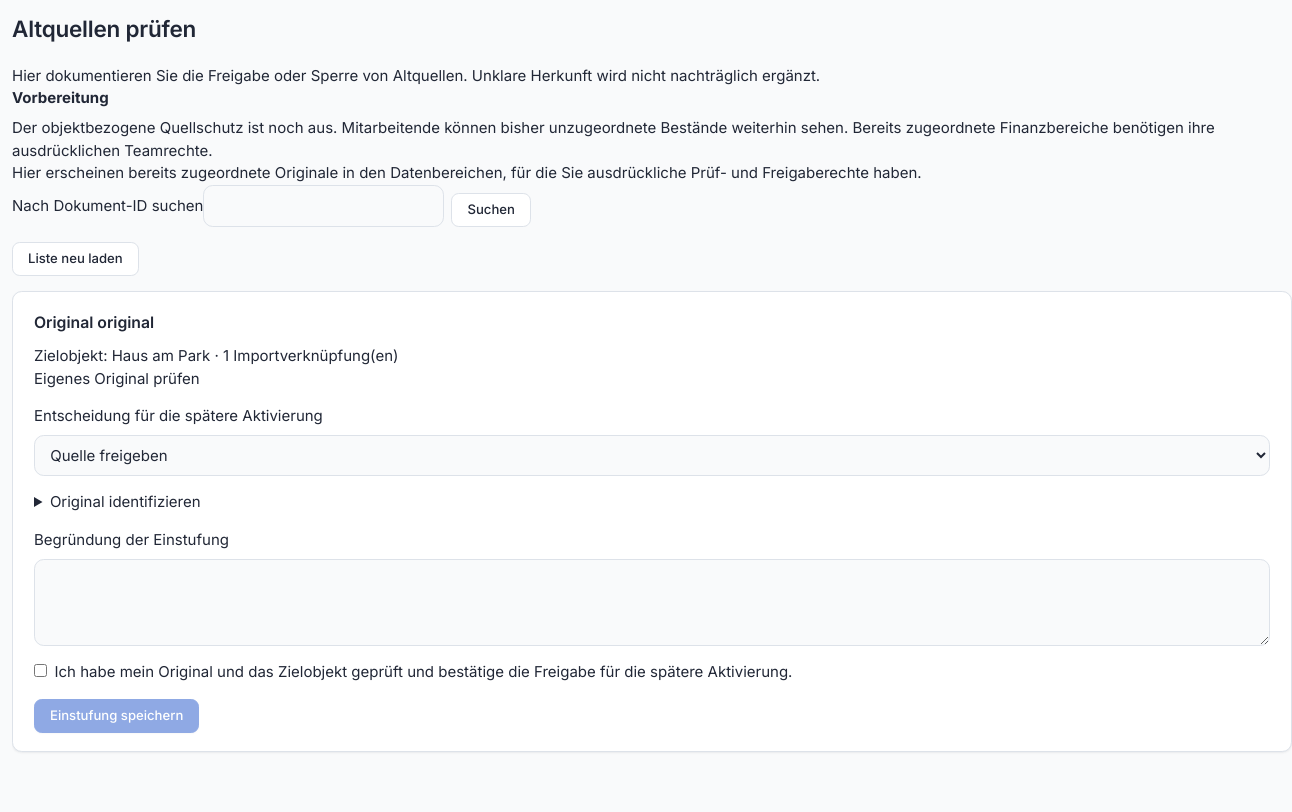
Test case: requires refreshed context and new confirmation after conflict
Expected: the checkbox is shown, [34,664,47,677]
Type "Original und Ziel geprüft" into the text box labelled "Begründung der Einstufung" at (652, 603), box [34,559,1270,646]
Click the checkbox at (40, 671), box [34,664,47,677]
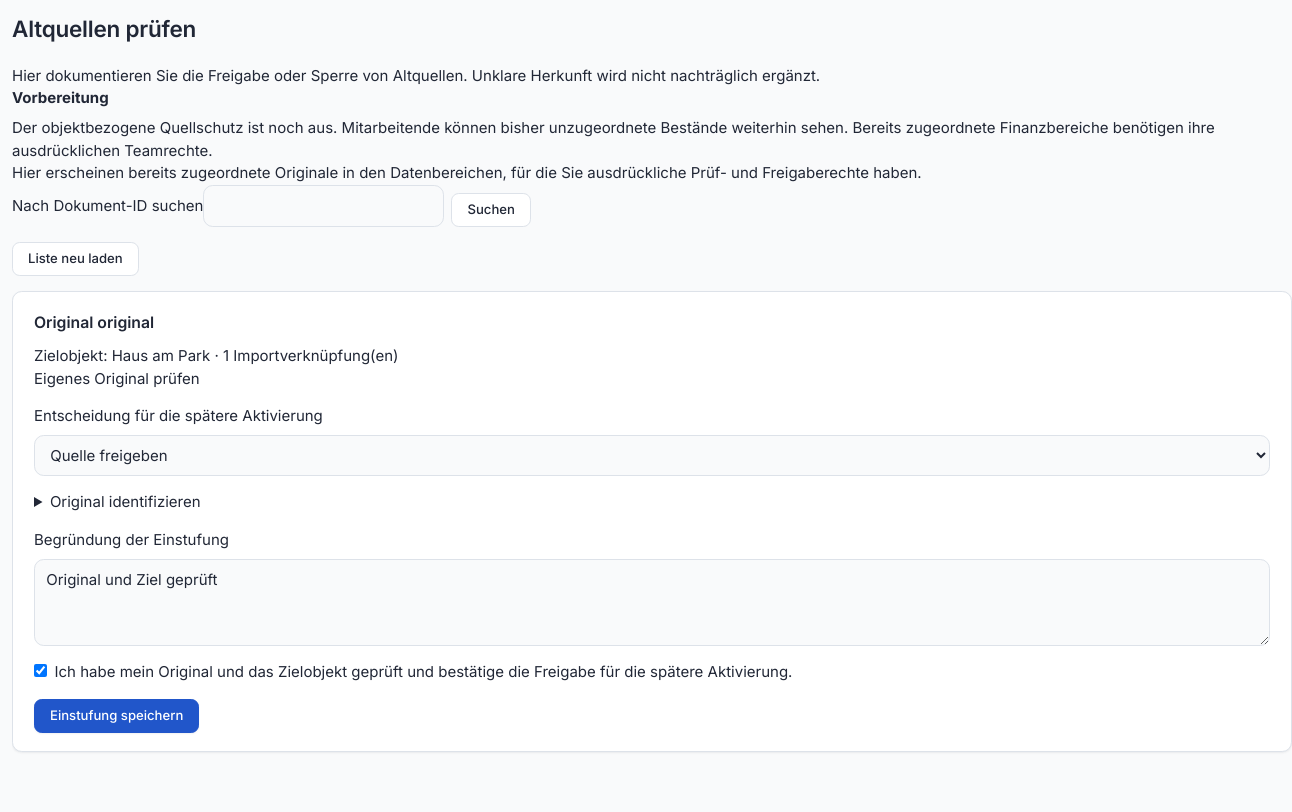
Click the button "Einstufung speichern" at (117, 716), box [34,699,199,733]
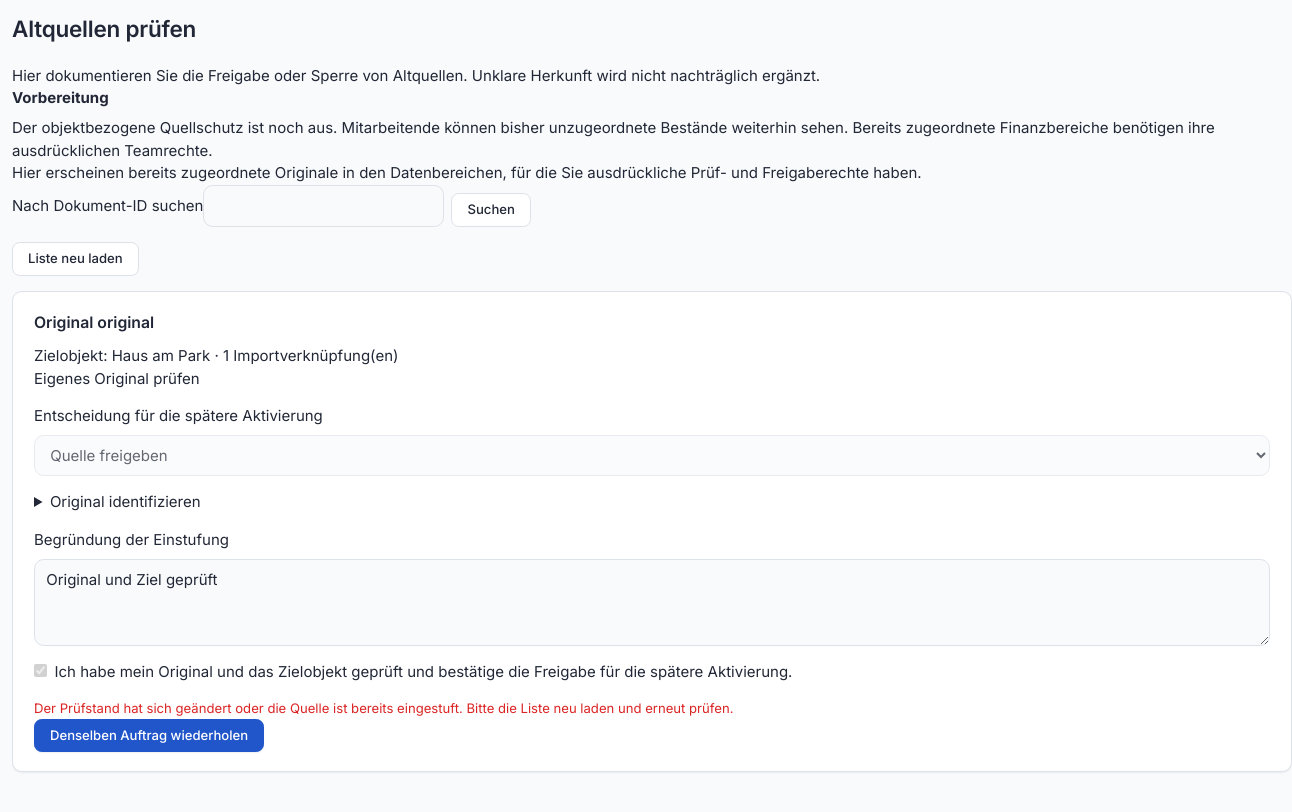
Expected: the text "Prüfstand hat sich geändert" is shown, [34,700,733,716]
Click the button "Liste neu laden" at (75, 259), box [12,242,139,276]
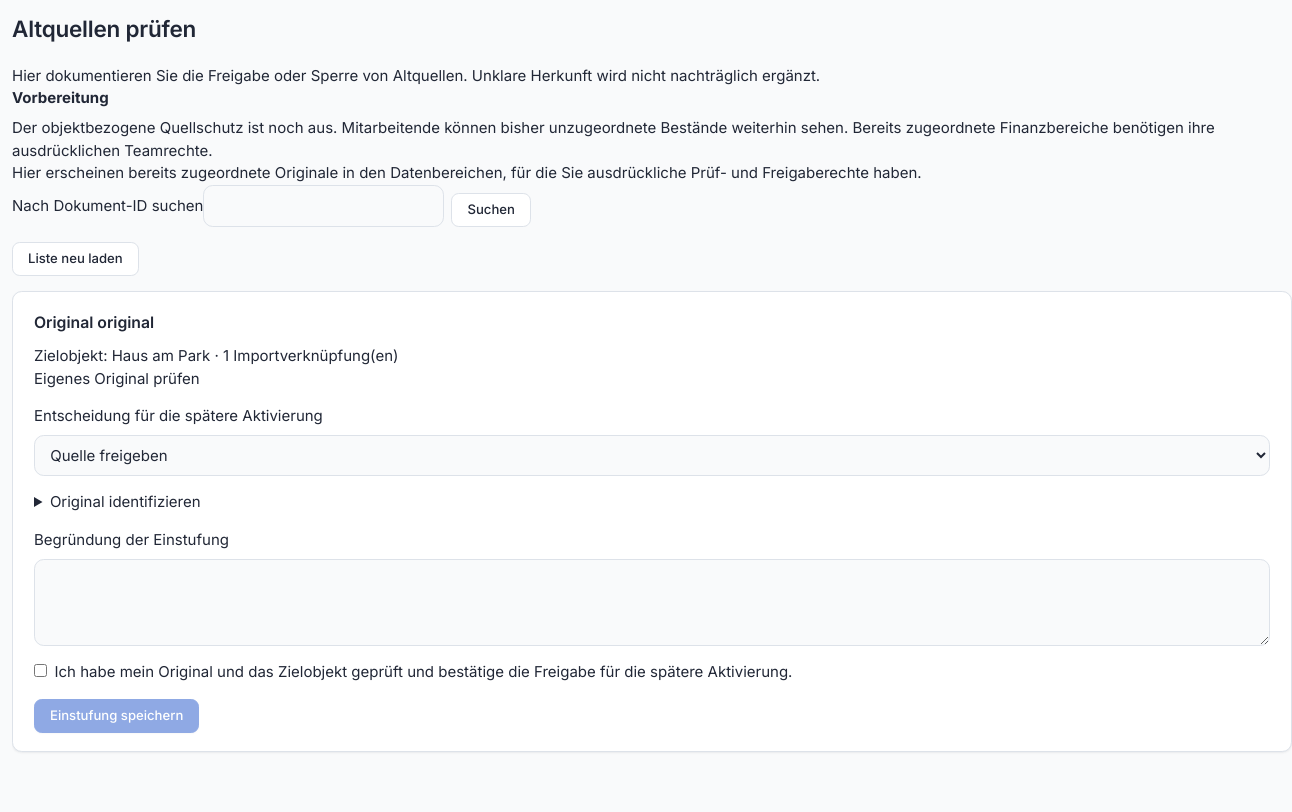
Expected: the button "Einstufung speichern" is shown, [34,699,199,733]
Expected: the checkbox is not checked, [34,664,47,677]
Type "Original und Ziel geprüft" into the text box labelled "Begründung der Einstufung" at (652, 603), box [34,559,1270,646]
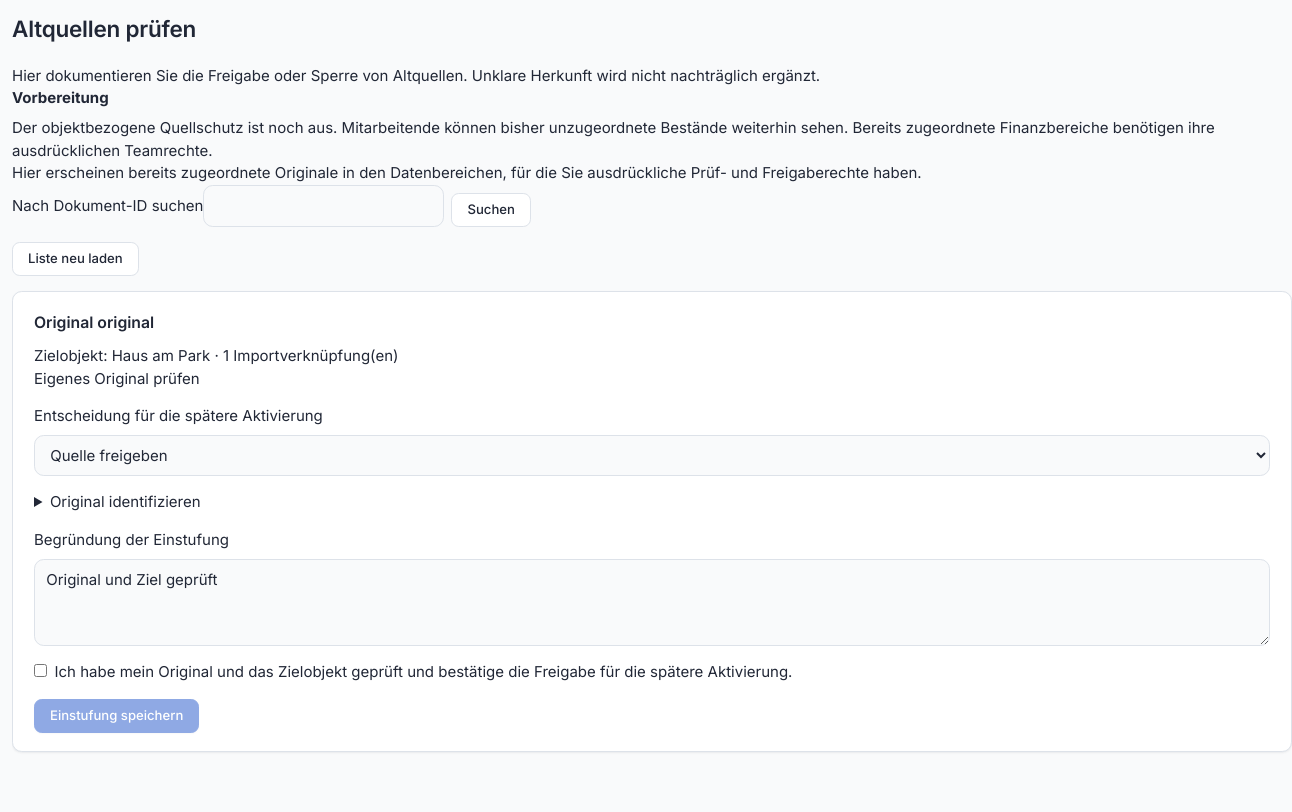
Click the checkbox at (40, 671), box [34,664,47,677]
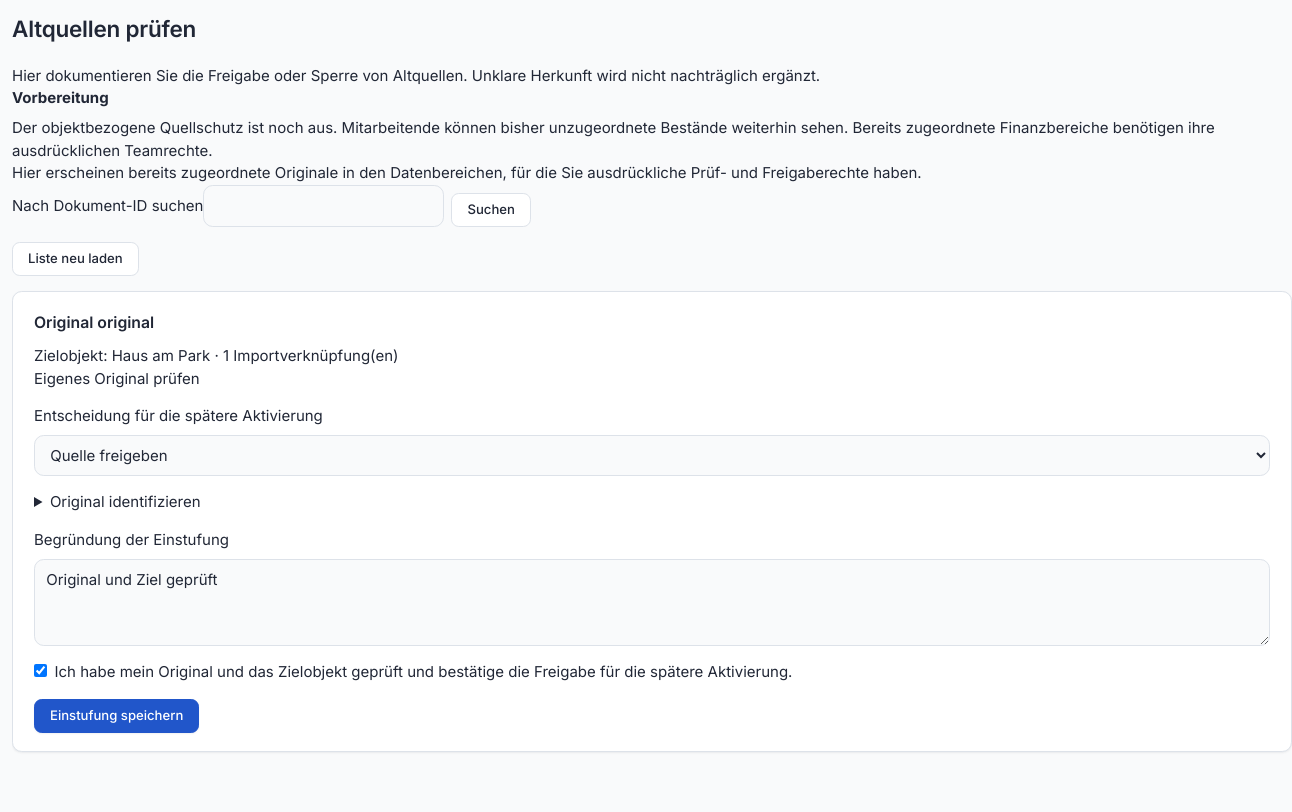
Click the button "Einstufung speichern" at (117, 716), box [34,699,199,733]
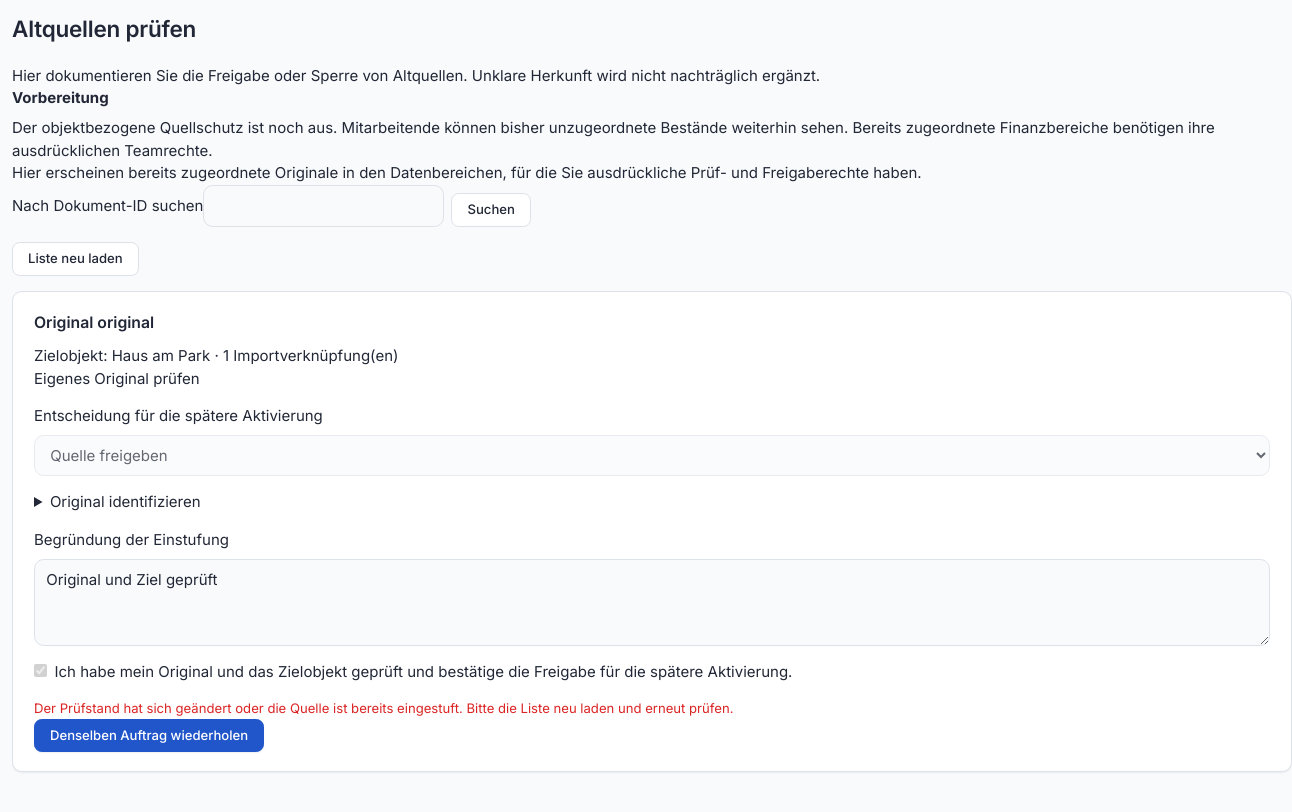
Expected: the text "Prüfstand hat sich geändert" is shown, [34,700,733,716]
